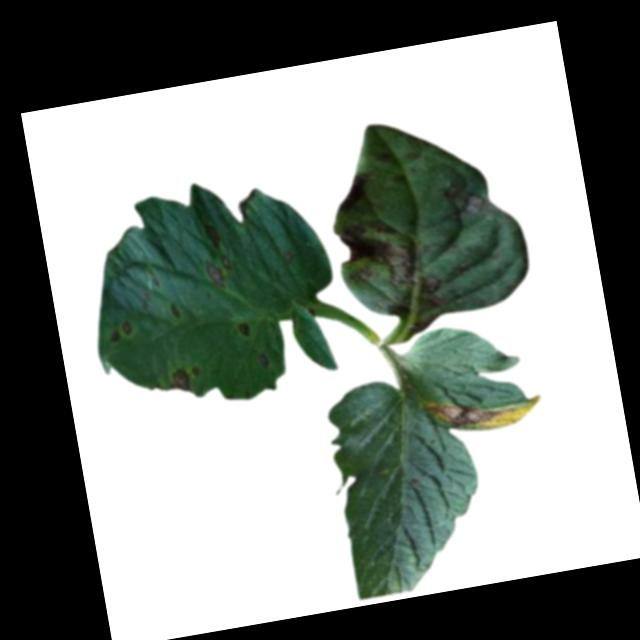Early_blight: (337, 210, 451, 324), (422, 382, 548, 441), (437, 175, 501, 224), (334, 172, 377, 213), (203, 252, 236, 291), (166, 366, 195, 399), (202, 220, 225, 252), (109, 319, 137, 345), (237, 320, 253, 342), (255, 350, 270, 369)
